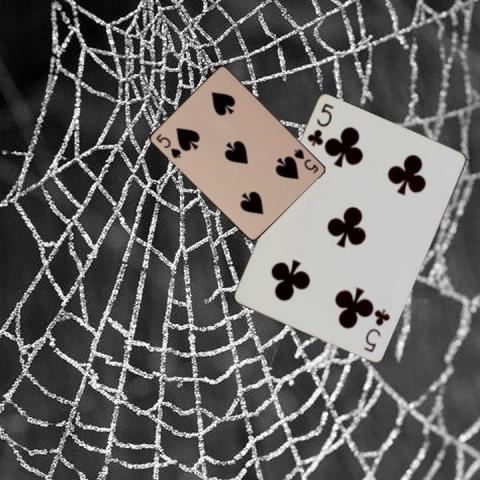5c: (361, 306, 392, 355), (304, 101, 335, 148)
5s: (153, 131, 182, 160), (291, 146, 319, 175)
